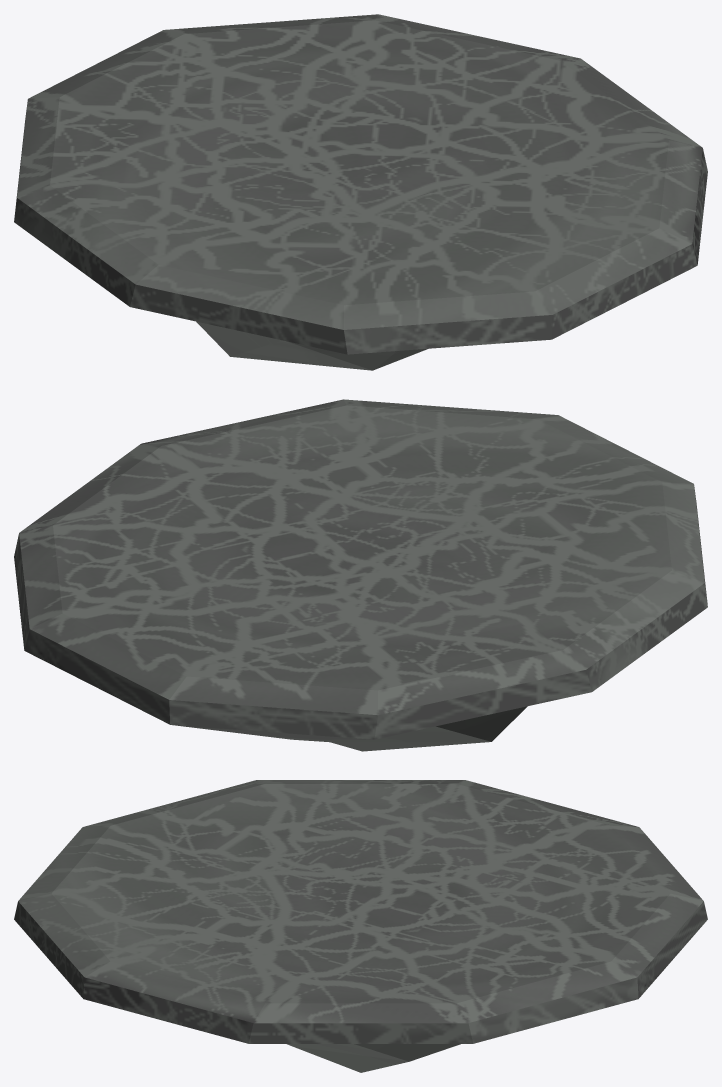
File: kaya1.fbx
The picture shows the model from 3 angles, top to bottom: view 1: azimuth 30°, elevation 25°; view 2: azimuth 150°, elevation 25°; view 3: azimuth 270°, elevation 25°; orthographic projection. The views are drawn at different scales.
Parts seen in each view (by area): view 1: Icosphere.001; view 2: Icosphere.001; view 3: Icosphere.001.
Part boxes in pixels (x1,y1,x2,y2): Icosphere.001: (14, 14, 707, 370); Icosphere.001: (14, 399, 707, 751); Icosphere.001: (14, 780, 707, 1072).
Bounding box in the file's own units: 6.27 × 2.13 × 7.48.
1 material, 1 textured.
